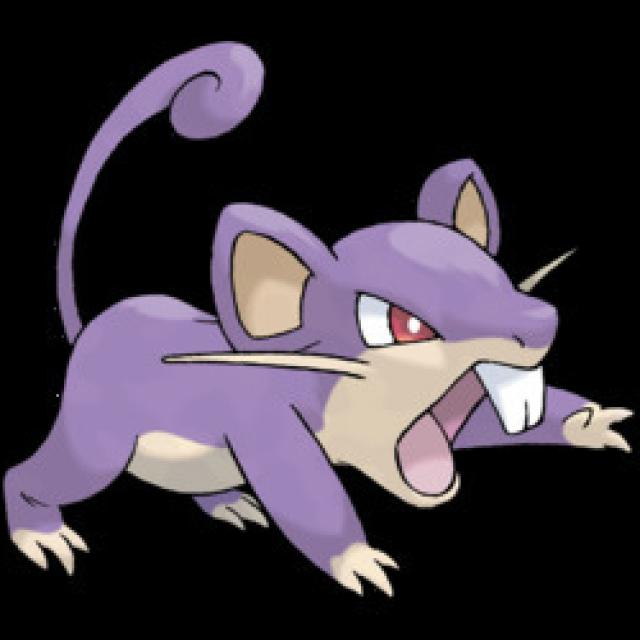Rattata: (16, 165, 585, 559)
